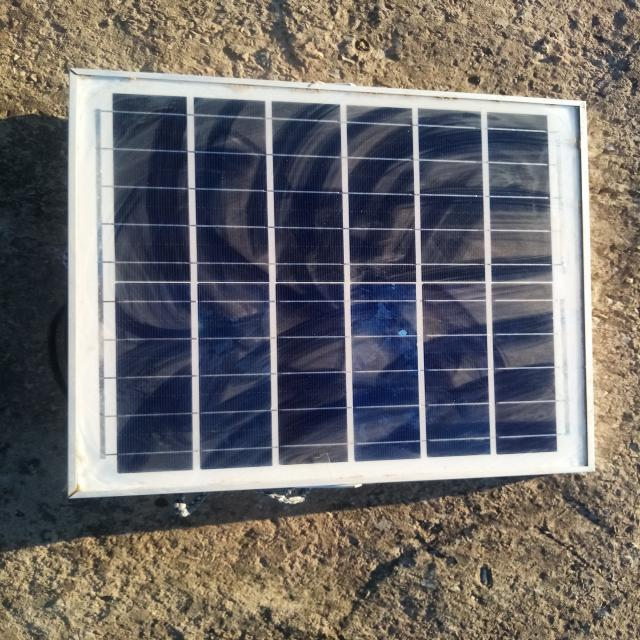faulty: (74, 74, 593, 491)
